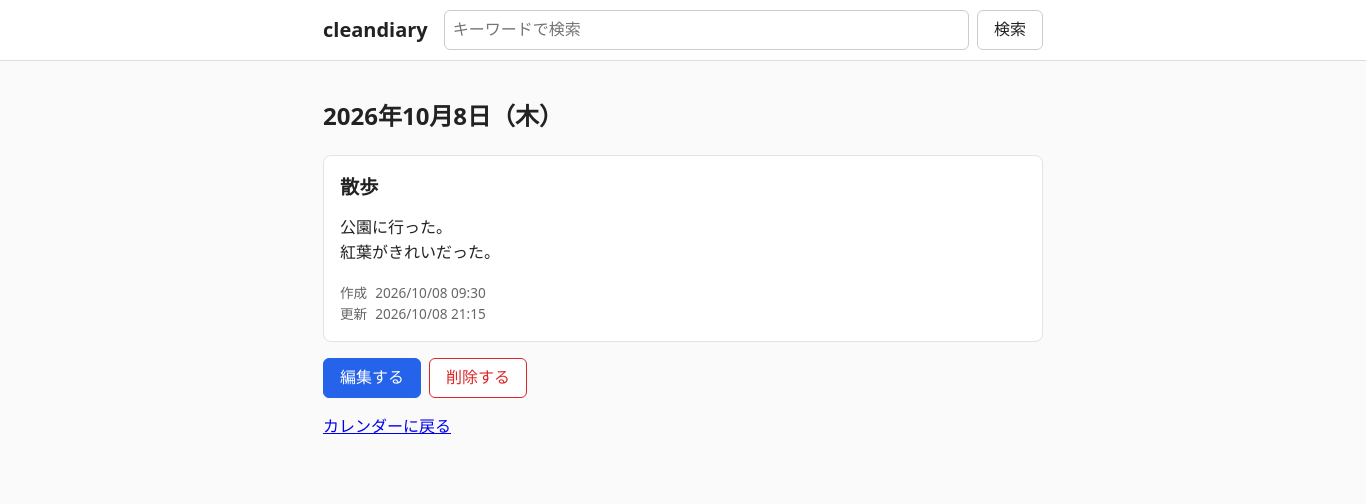
Test: 日記表示画面 › 削除を確認して OK なら、削除してその月のカレンダーへ戻る
The image size is (1366, 504).
What coordinates should you click on to do the following:
click the button "削除する"
I would click on:
 (478, 378)
Its box is [429, 358, 527, 398].
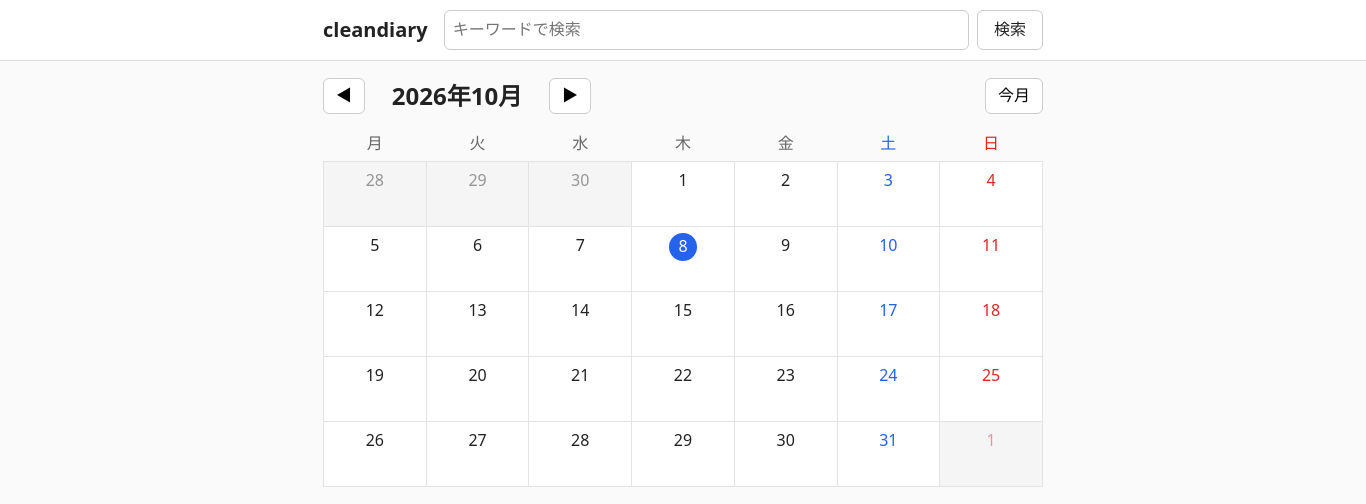
Result: the link named "2026-10-08" is shown at [632, 227, 734, 291]
